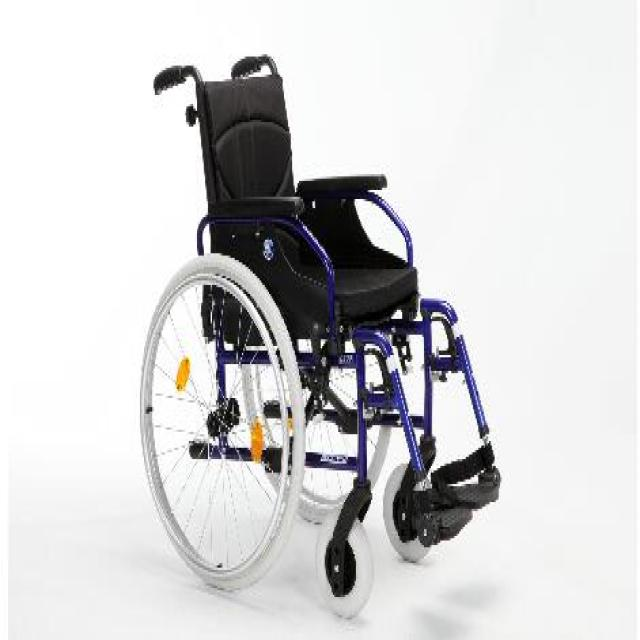wheelchairs: (127, 51, 501, 626)
